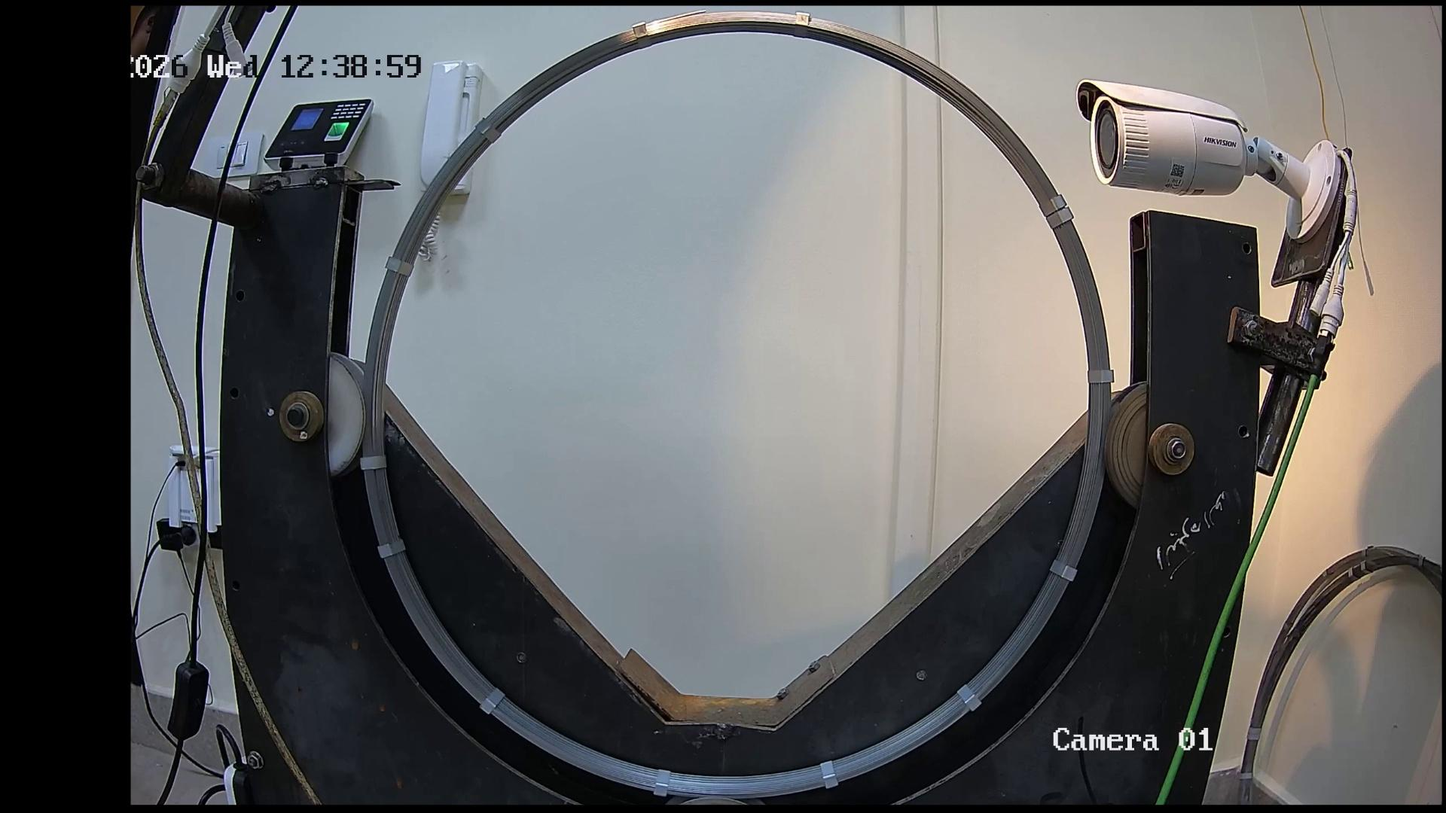clamp: (475, 117, 501, 144), (480, 687, 505, 715), (1039, 194, 1068, 218), (1046, 206, 1074, 230), (957, 684, 981, 711), (385, 256, 414, 278), (1050, 559, 1077, 582), (377, 538, 405, 558), (631, 21, 650, 49), (820, 760, 838, 789), (653, 769, 671, 797), (793, 11, 810, 39), (1086, 369, 1115, 384), (360, 455, 387, 470)
